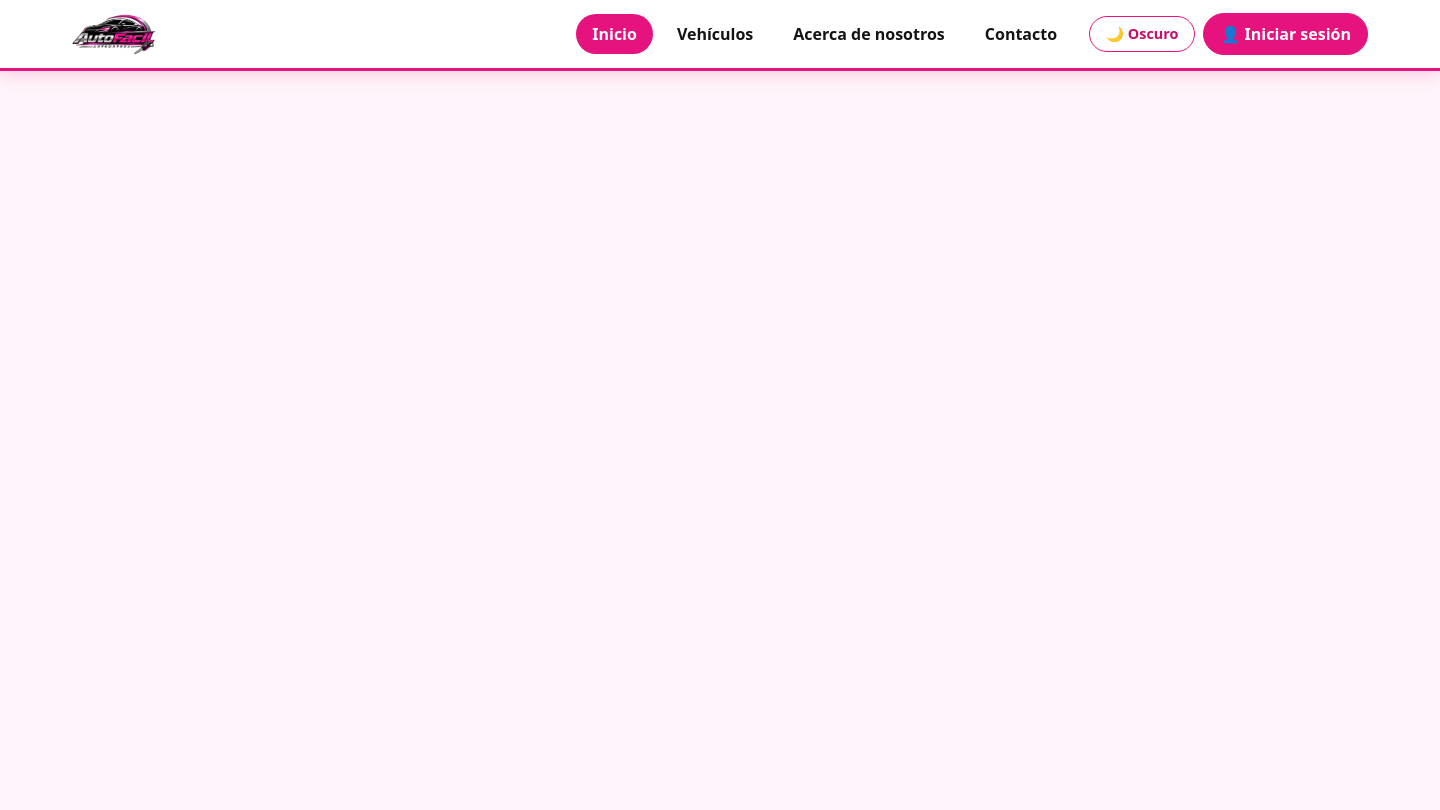
Scenario: ModalSesion › cambia de pestaña limpiando el error
This screenshot has width=1440, height=810.
Click the button "👤 Iniciar sesión" at (1286, 34), box [1203,13,1368,55]
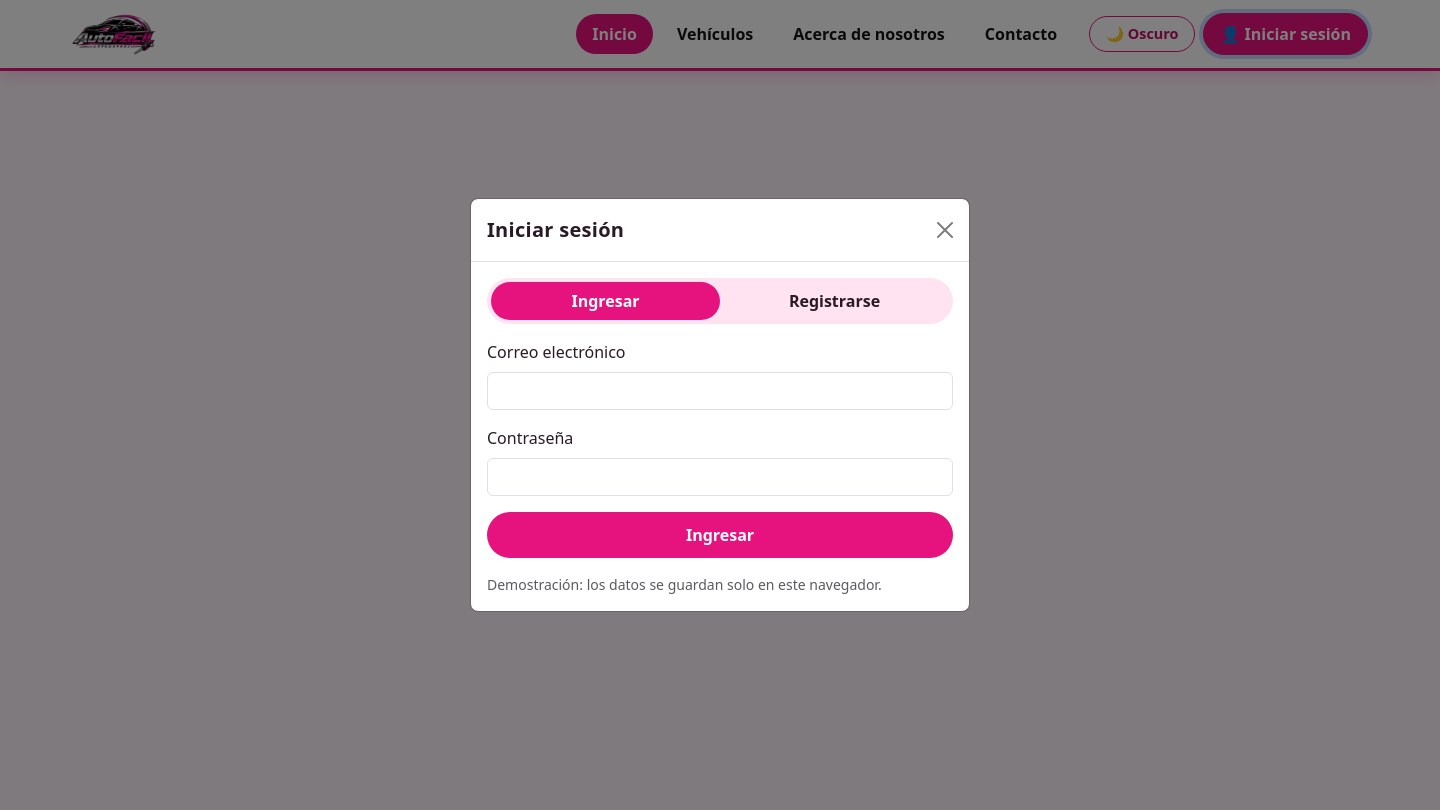
Click the submit button at (720, 535), box [487,512,953,558]
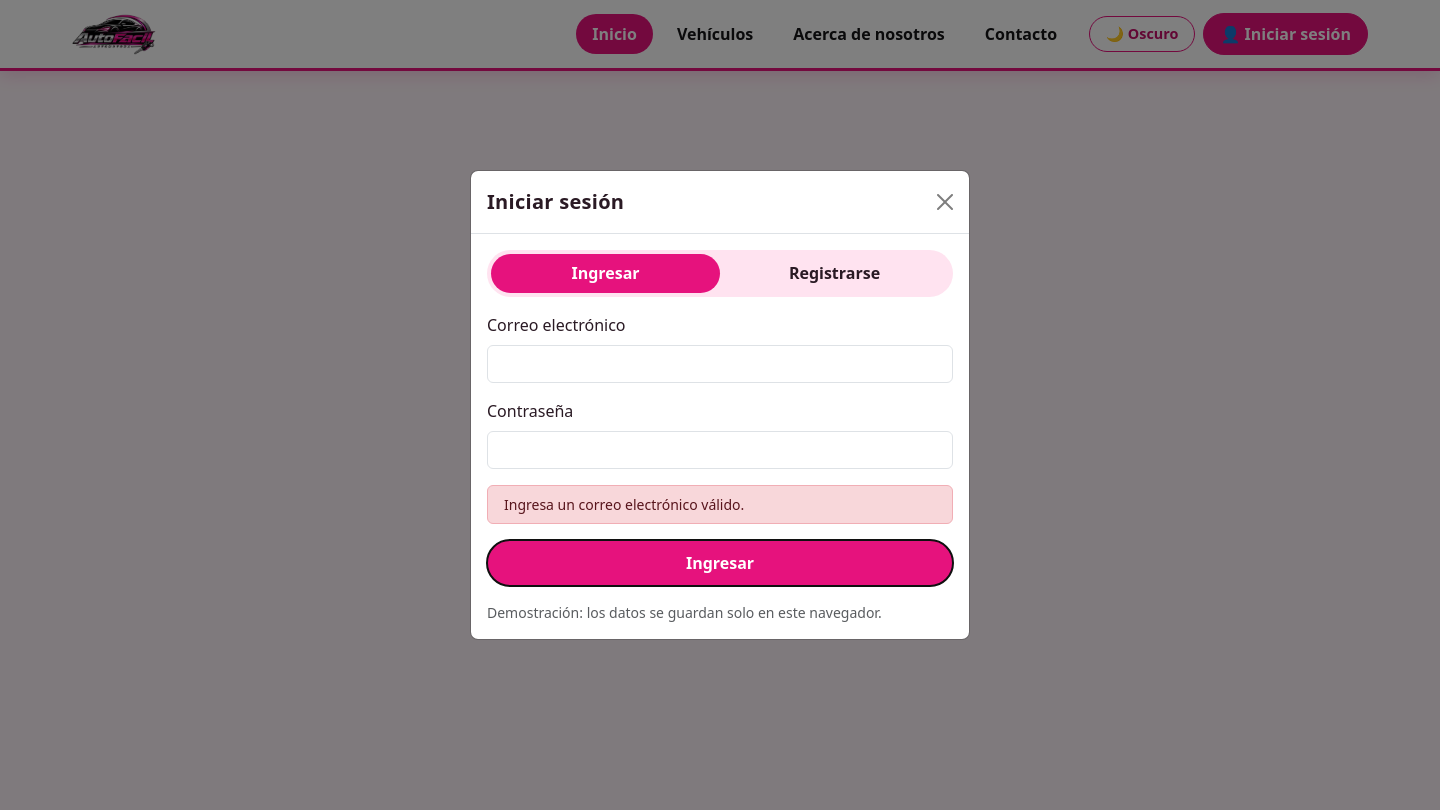
Now the message "Ingresa un correo electrónico válido." is shown, box [487,484,953,524]
Click the button "Registrarse" at (834, 273), box [720,254,949,292]
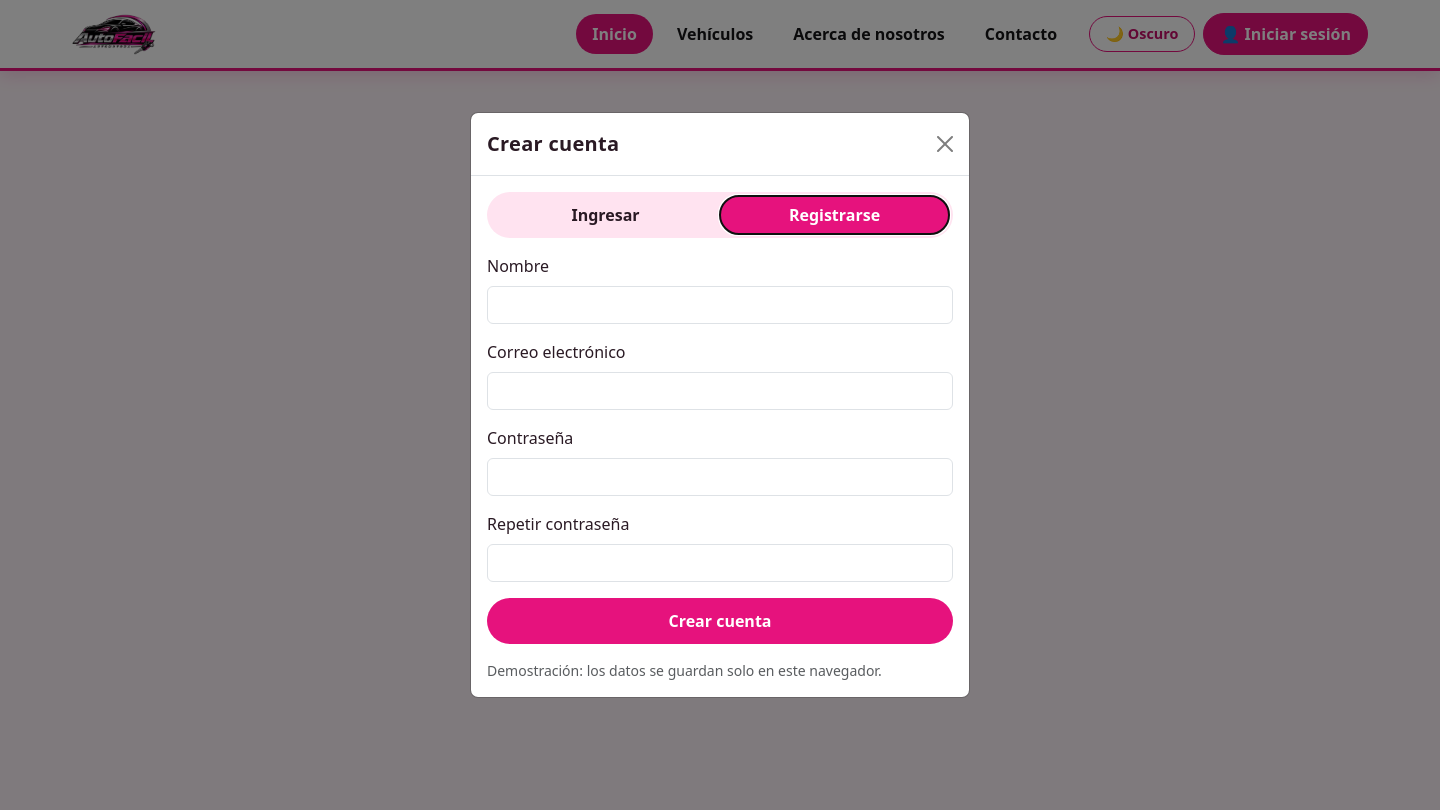
Now the message "Ingresa un correo electrónico válido." is gone
